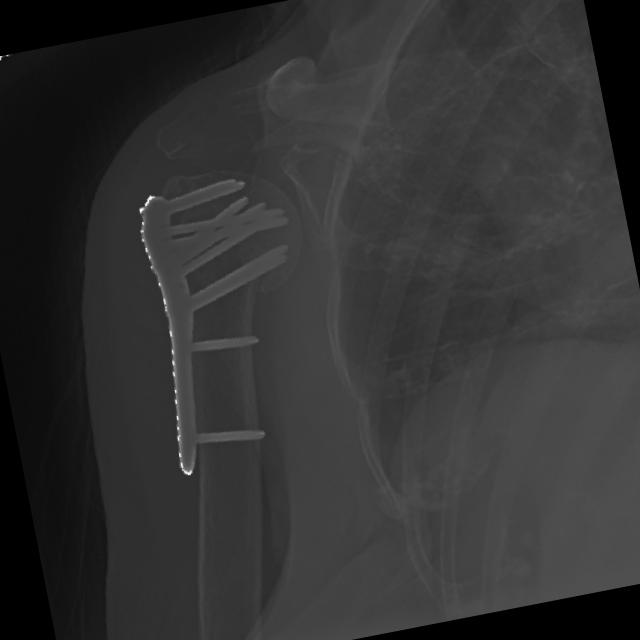shoulder fracture: (159, 145, 312, 340)
